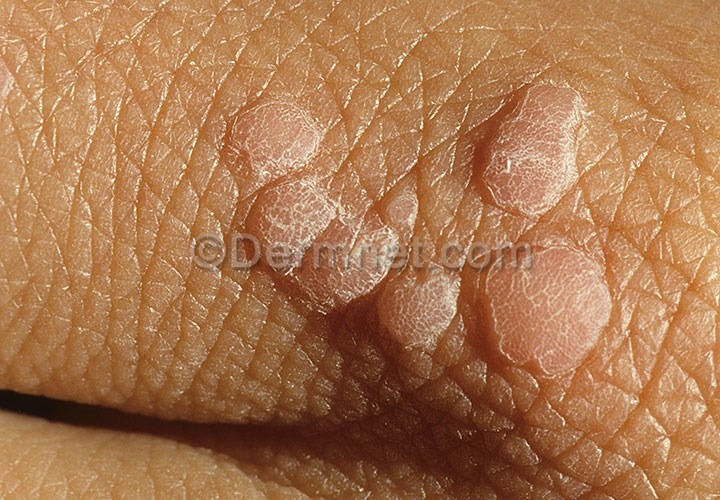Warts: (467, 59, 593, 227), (220, 89, 350, 233)
